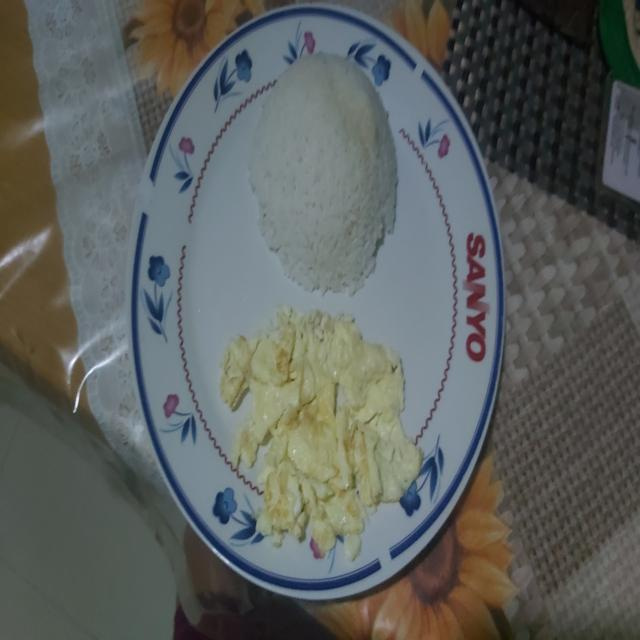Chicken -Chicken Inasal-: (251, 51, 398, 285)
